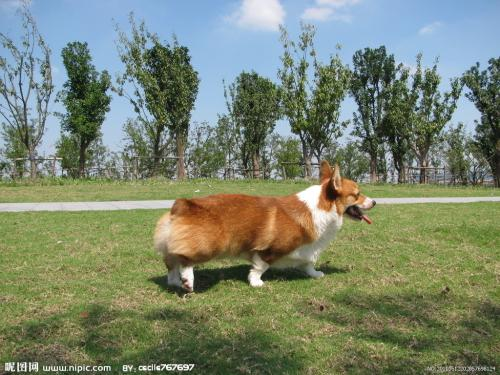dog: (298, 152, 383, 234)
